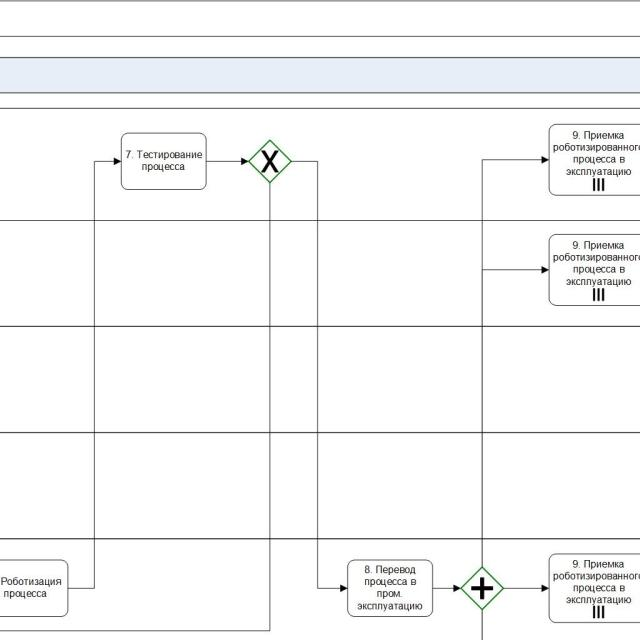arrow: (480, 155, 549, 564), (292, 160, 348, 592), (68, 157, 121, 590), (505, 584, 549, 592), (208, 158, 248, 166), (433, 585, 461, 593)
diamond: (248, 139, 292, 184), (460, 566, 504, 610)
rectangle: (121, 131, 207, 191), (348, 559, 434, 617)
